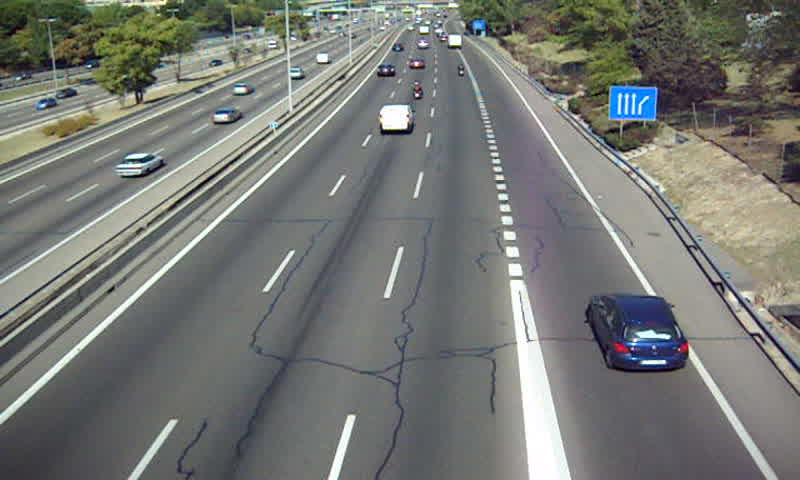car: (589, 294, 689, 372), (374, 63, 395, 78), (408, 59, 424, 72)
motorcycle: (410, 81, 424, 103), (457, 62, 467, 80)
van: (378, 106, 412, 134)
